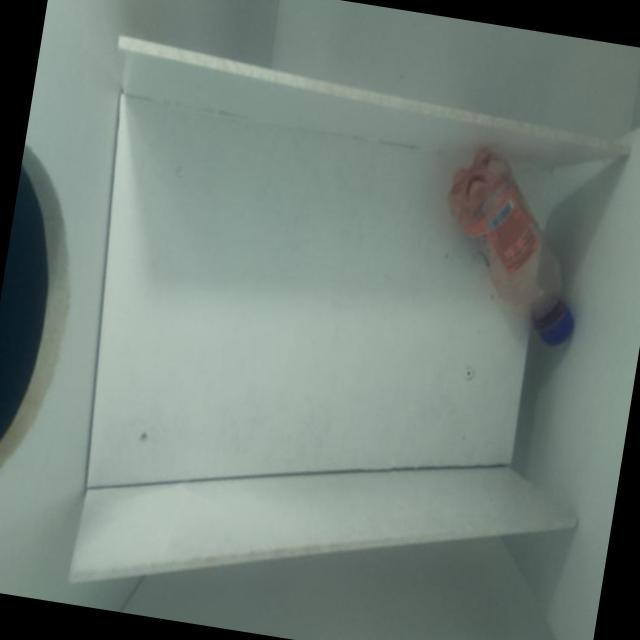good: (411, 120, 608, 378)
